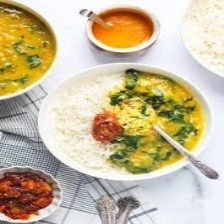sabzi: (0, 169, 56, 224)
